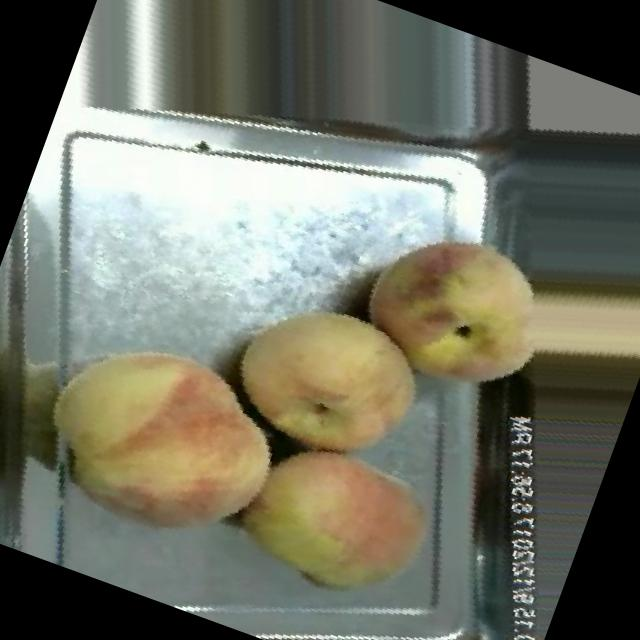Fruit: (0, 278, 330, 602), (314, 175, 594, 443), (188, 246, 470, 510), (193, 397, 473, 640)
